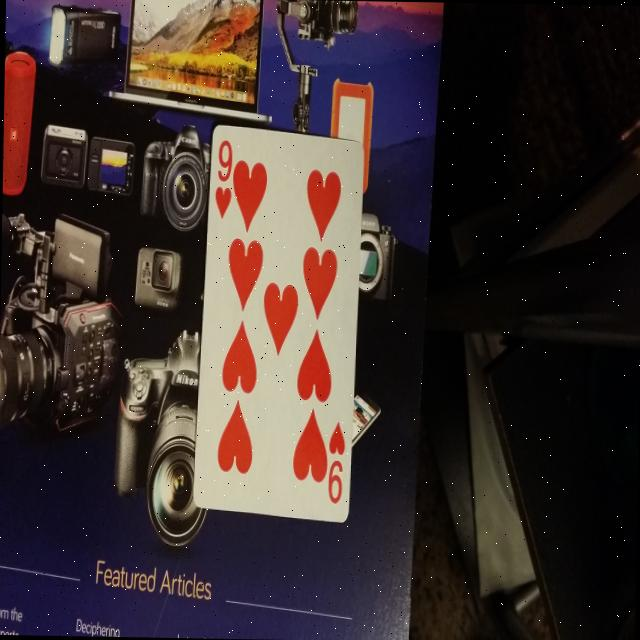9h: (211, 135, 237, 233), (326, 411, 346, 515)
